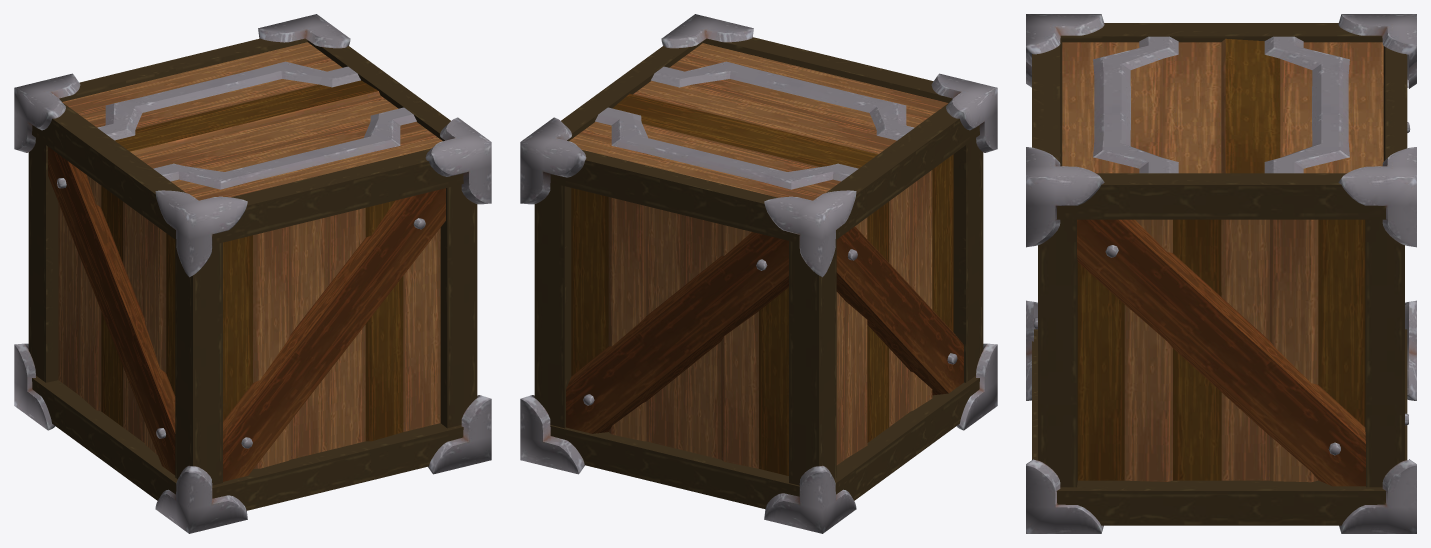
File: crate_metal-CsXlb_NK.glb
The picture shows the model from 3 angles, left to right: view 1: azimuth 30°, elevation 25°; view 2: azimuth 150°, elevation 25°; view 3: azimuth 270°, elevation 25°; orthographic projection. The views are drawn at different scales.
Visible parts, largest first — view 1: Crate_Metal; view 2: Crate_Metal; view 3: Crate_Metal.
Part boxes in pixels (x1,y1,x2,y2): Crate_Metal: [14, 14, 491, 533]; Crate_Metal: [520, 14, 997, 533]; Crate_Metal: [1026, 14, 1416, 533].
Size of the model in its own units: 1.56 by 1.56 by 1.56.
Materials: 2 (2 with a texture image).
